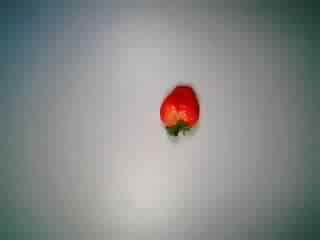strawberry: (141, 78, 207, 140)
